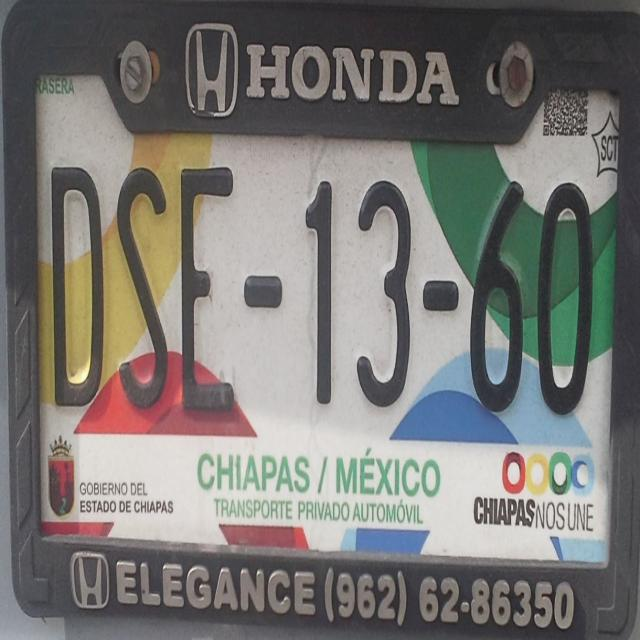placa: (28, 136, 614, 451)
